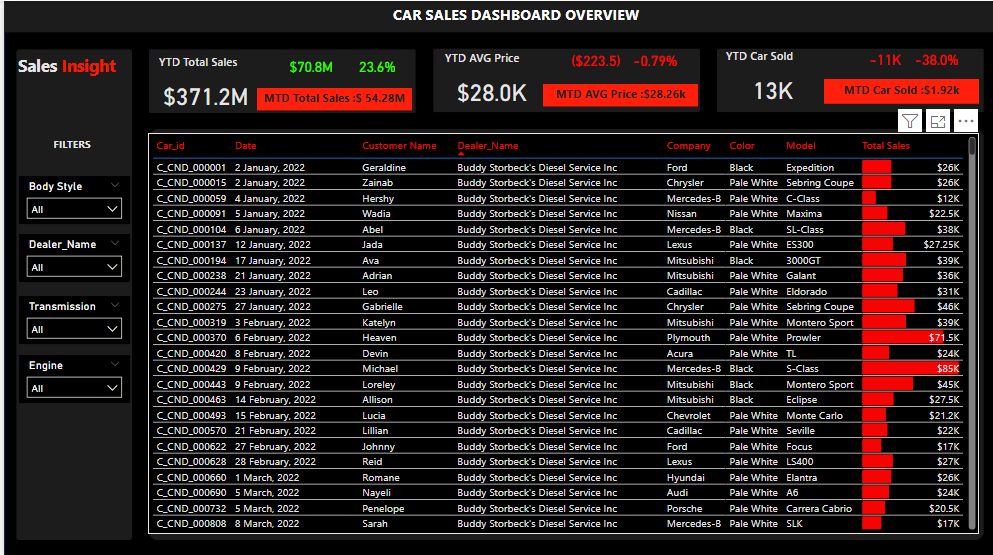

The page's visual inventory and layout, read from the dashboard file:
{"tool":"powerbi","page":{"name":"DETAILS","canvas":[1280,720],"ordinal":1},"visuals":[{"type":"card","title":" YTD Total Sales","fields":{"Values":["calender Table.YTD Total Sales"]},"box":[194.9,68.9,131,85.7],"z":0},{"type":"card","fields":{"Values":["calender Table.sales difference"]},"box":[352.9,69.4,85,31.2],"z":1000},{"type":"card","fields":{"Values":["calender Table.YOY Growth"]},"box":[438,69.4,87.9,31.2],"z":2000},{"type":"card","fields":{"Values":["calender Table.MTD KPI"]},"box":[325.9,112.5,199.9,28.6],"z":3000},{"type":"card","title":" YTD AVG Price","fields":{"Values":["calender Table.YTD AVG Price"]},"box":[564.3,63.8,131,85.7],"z":4000},{"type":"card","fields":{"Values":["calender Table.AVG Price diff"]},"box":[719,63.8,89,28.6],"z":5000},{"type":"card","fields":{"Values":["calender Table.MTD avg price Kpi"]},"box":[695.4,107.4,199.9,28.6],"z":6000},{"type":"card","title":" YTD Car Sold","fields":{"Values":["calender Table.YTD Carsold"]},"box":[927.1,60.3,131,85.7],"z":7000},{"type":"card","fields":{"Values":["calender Table.Car sold diff"]},"box":[1101.8,60.3,68.9,31.9],"z":8000},{"type":"card","fields":{"Values":["calender Table.MTD CarSold kpi"]},"box":[1058.3,100.8,199.9,31.9],"z":9000},{"type":"card","fields":{"Values":["calender Table.YOY AVG Price Growth"]},"box":[794.5,63.8,89,28.6],"z":10000},{"type":"card","fields":{"Values":["calender Table.YOY car sold growth"]},"box":[1159.4,60.9,85,31.2],"z":11000},{"type":"slicer","fields":{"Values":["car_data.Engine"]},"box":[19.8,456.4,143.1,62.4],"z":12000},{"type":"slicer","fields":{"Values":["car_data.Transmission"]},"box":[19.8,381.3,143.1,62.4],"z":13000},{"type":"slicer","fields":{"Values":["car_data.Dealer_Name"]},"box":[19.8,300.5,143.1,62.4],"z":14000},{"type":"slicer","fields":{"Values":["car_data.Body Style"]},"box":[19.8,225.4,143.1,62.4],"z":15000},{"type":"textbox","box":[12.8,63.8,150.2,85],"z":16000},{"type":"textbox","box":[425.2,0,470.6,46.8],"z":17000},{"type":"tableEx","fields":{"Values":["car_data.Car_id","car_data.Date","car_data.Customer Name","car_data.Dealer_Name","car_data.Company","car_data.Color","car_data.Model","car_data.Total Sales"]},"box":[185.7,170.1,1072.9,517.3],"z":18000},{"type":"textbox","box":[12.8,170.1,150.2,35.4],"z":19000}]}

Visuals, with their boxes in screenshot pixels (x1, y1, x2, y2), scaled from the page's 1280x720 canvas onto the 993x555 screenshot:
" YTD Total Sales" card: l=151, t=53, r=253, b=119
card - calender Table.sales difference: l=274, t=53, r=340, b=78
card - calender Table.YOY Growth: l=340, t=53, r=408, b=78
card - calender Table.MTD KPI: l=253, t=87, r=408, b=109
" YTD AVG Price" card: l=438, t=49, r=539, b=115
card - calender Table.AVG Price diff: l=558, t=49, r=627, b=71
card - calender Table.MTD avg price Kpi: l=539, t=83, r=695, b=105
" YTD Car Sold" card: l=719, t=46, r=821, b=113
card - calender Table.Car sold diff: l=855, t=46, r=908, b=71
card - calender Table.MTD CarSold kpi: l=821, t=78, r=976, b=102
card - calender Table.YOY AVG Price Growth: l=616, t=49, r=685, b=71
card - calender Table.YOY car sold growth: l=899, t=47, r=965, b=71
slicer - car_data.Engine: l=15, t=352, r=126, b=400
slicer - car_data.Transmission: l=15, t=294, r=126, b=342
slicer - car_data.Dealer_Name: l=15, t=232, r=126, b=280
slicer - car_data.Body Style: l=15, t=174, r=126, b=222
textbox: l=10, t=49, r=126, b=115
textbox: l=330, t=0, r=695, b=36
tableEx - car_data.Car_id x car_data.Date: l=144, t=131, r=976, b=530
textbox: l=10, t=131, r=126, b=158
